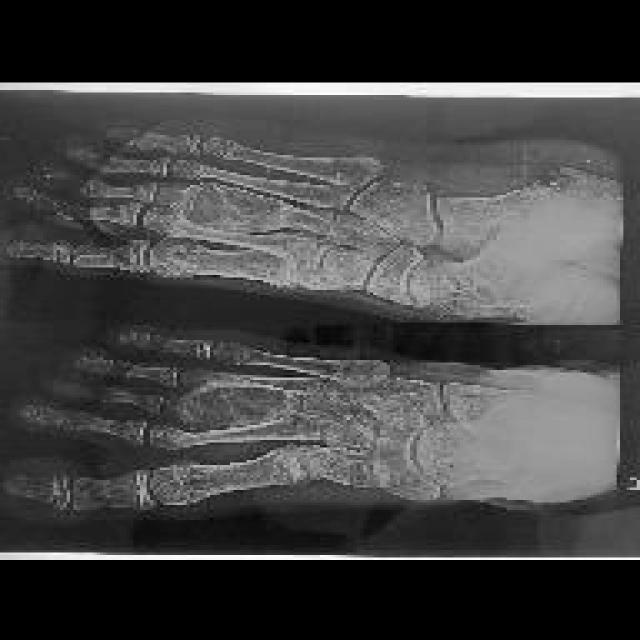bone-cancer: (175, 186, 293, 230), (178, 381, 295, 422)
